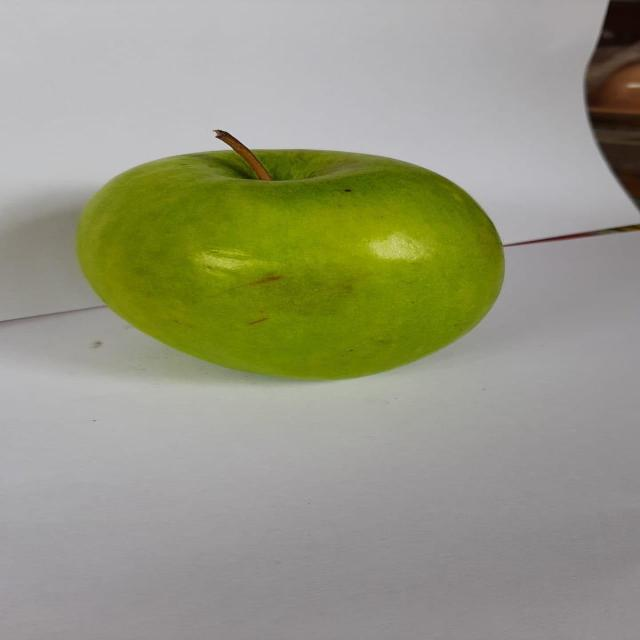Rotten Apple: (54, 122, 515, 390)
